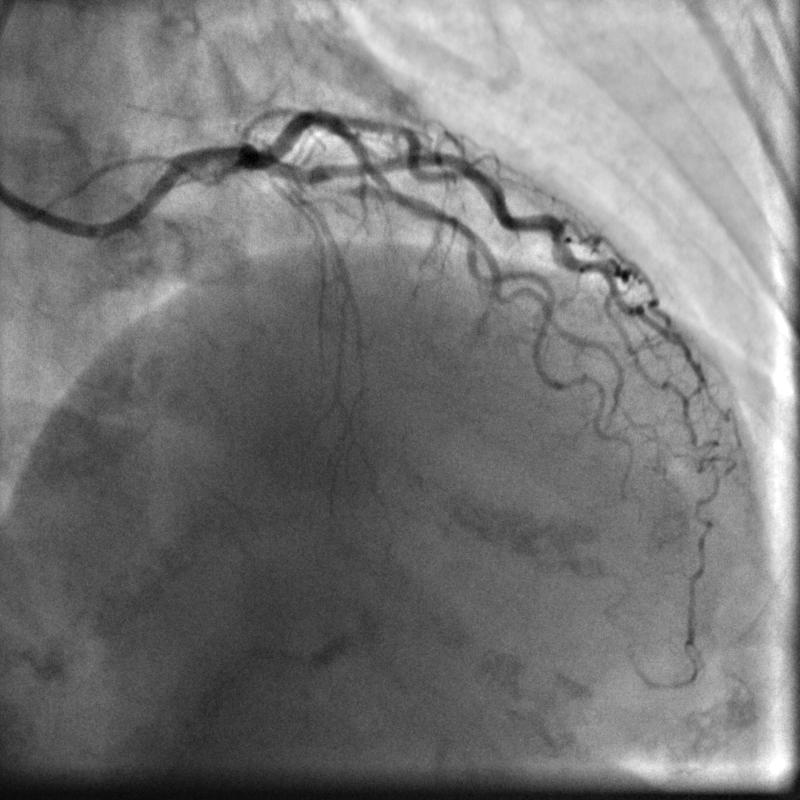Stenosis: (327, 181, 358, 206)
